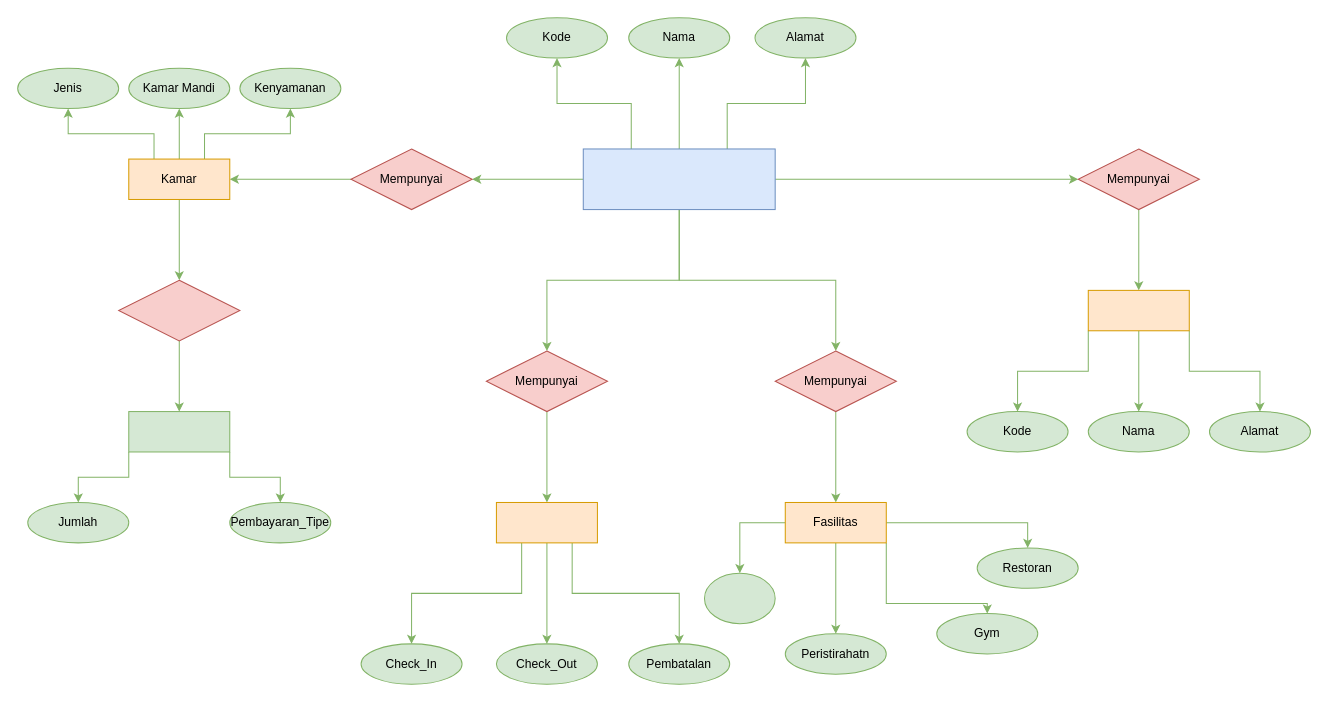
Some shapes in this 1328 by 702 pixel diagram are drawn without their labels. Each missing label, with the centre of its shape:
Biaya: point 179,310
Harga: point 179,431
Hotel: point 678,179
Kolam Renang: point 739,598
Pegawai: point 1138,310
Pelayan: point 546,522
